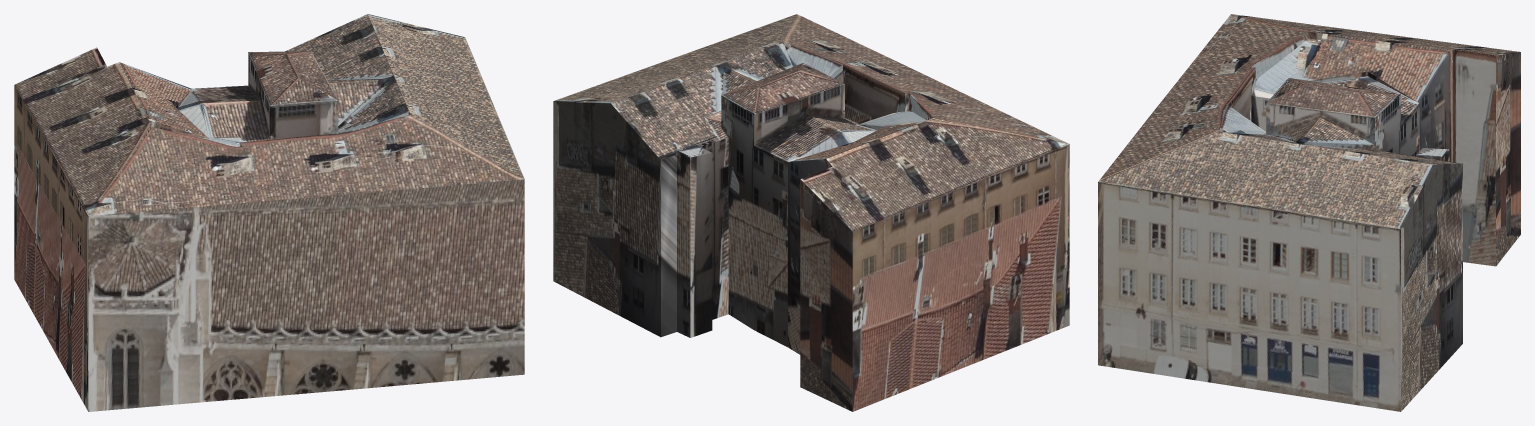
3 views of the same model, side by side, from view 1: azimuth 30°, elevation 25°; view 2: azimuth 150°, elevation 25°; view 3: azimuth 270°, elevation 25° (orthographic). The views are drawn at different scales.
Parts seen in each view (by area): view 1: Z_UP; view 2: Z_UP; view 3: Z_UP.
Part boxes in pixels (bbox=[...]): Z_UP: bbox=[14, 14, 524, 411]; Z_UP: bbox=[553, 14, 1069, 411]; Z_UP: bbox=[1098, 14, 1520, 411].
Bounding box in the file's own units: 38.75 × 19.28 × 32.34.
Materials: 2 (1 with a texture image).
